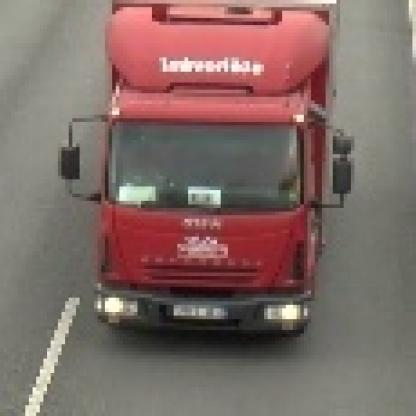truck: (59, 1, 352, 338)
